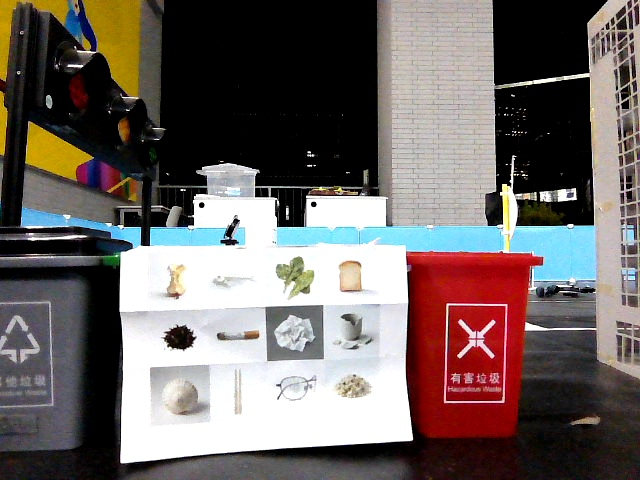food_trash: (205, 255, 260, 306), (151, 313, 207, 363), (147, 254, 198, 308), (268, 253, 321, 304), (326, 254, 380, 303), (326, 362, 378, 409)
other_trash: (152, 369, 208, 423), (324, 307, 377, 359), (210, 312, 265, 362), (267, 363, 322, 412), (210, 367, 262, 418), (268, 309, 321, 356)
